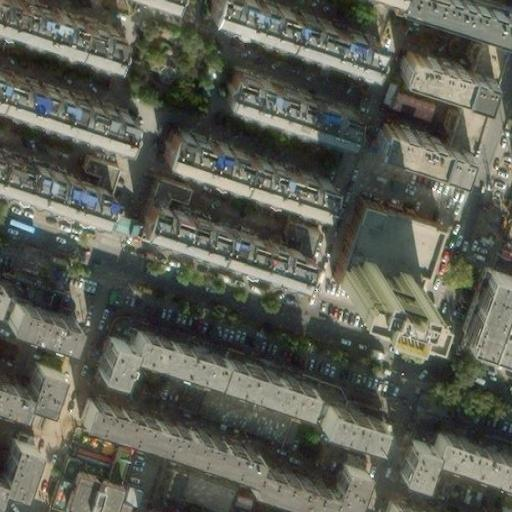building: (77, 393, 359, 506), (106, 307, 383, 421), (94, 324, 306, 401), (154, 124, 330, 210), (129, 212, 301, 295), (201, 0, 371, 67), (431, 27, 503, 180), (337, 197, 435, 290), (217, 68, 351, 135), (0, 68, 126, 136), (0, 0, 115, 57), (393, 429, 512, 479), (388, 40, 484, 94), (404, 412, 512, 454), (368, 116, 458, 166), (331, 250, 415, 303), (460, 269, 509, 351), (1, 295, 74, 339), (0, 268, 70, 313), (67, 435, 127, 483), (381, 84, 442, 128), (61, 469, 119, 512), (0, 358, 55, 403), (316, 401, 379, 439), (453, 266, 484, 342), (0, 435, 31, 488), (139, 190, 181, 223), (271, 232, 308, 264), (72, 166, 109, 196), (494, 277, 512, 330), (485, 325, 512, 359), (378, 497, 427, 512), (163, 470, 184, 499)
